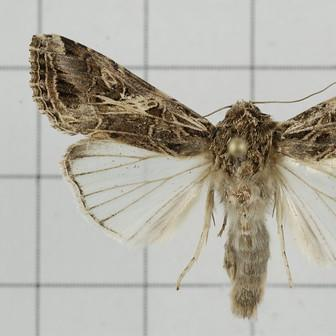Spodoptera litura: (28, 33, 336, 320)
